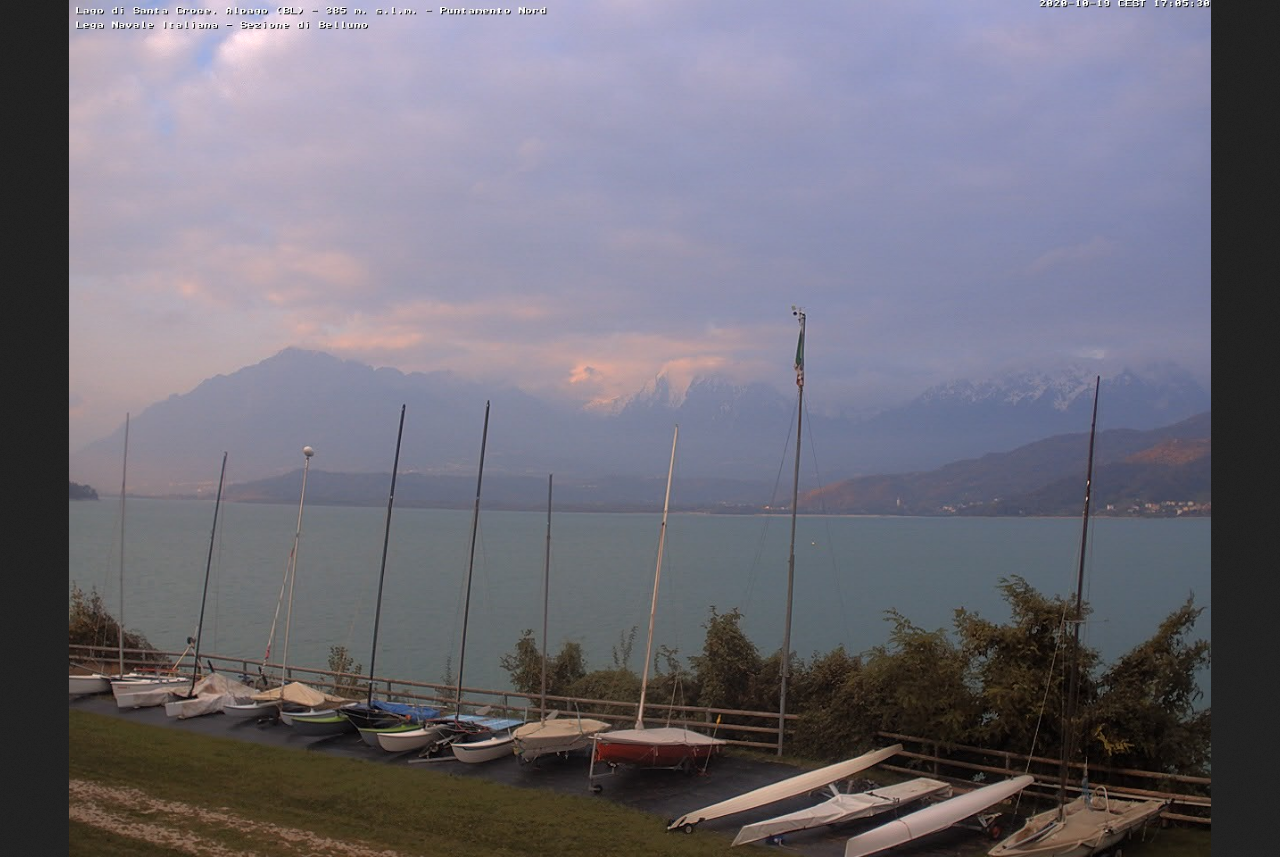no: (791, 319, 811, 387)
